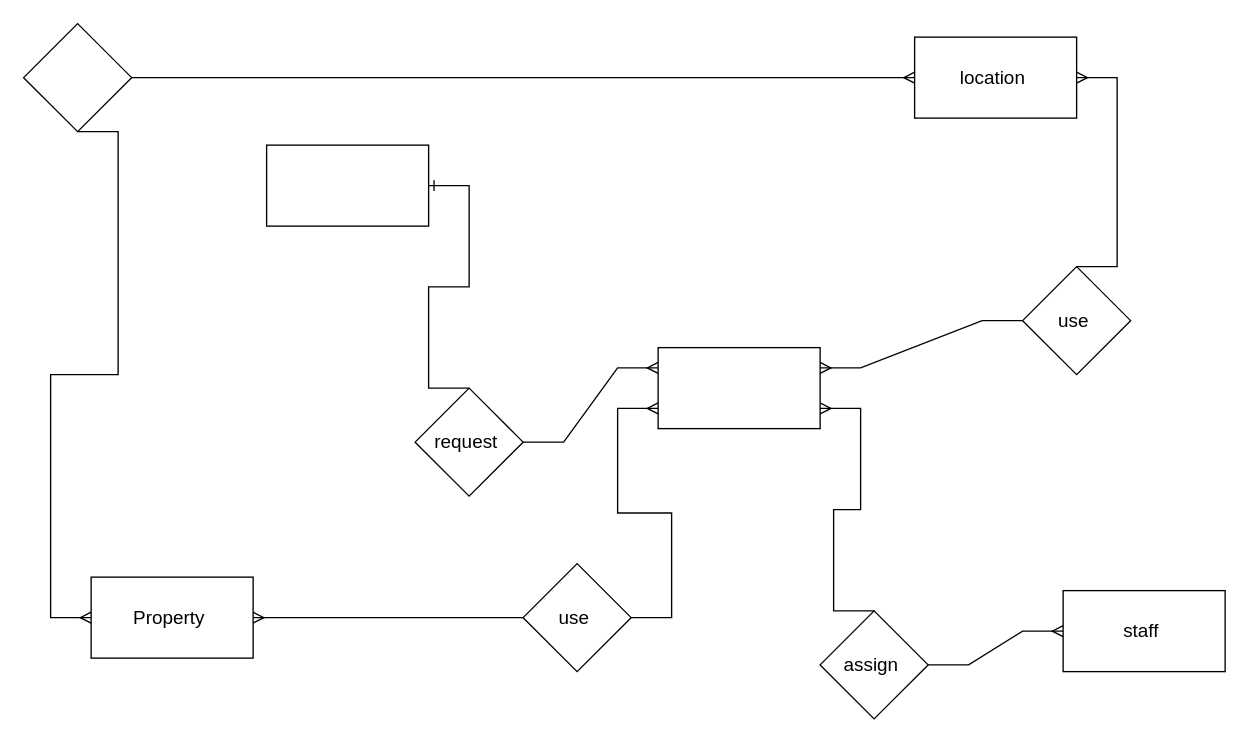
Image size: 1249x743. Some labels were removed from this diagram. Here are the shapes that lost their labels. From the top down, the centre of each, then its label:
pixel 77 77: use_in
pixel 347 185: Client
pixel 738 387: production
